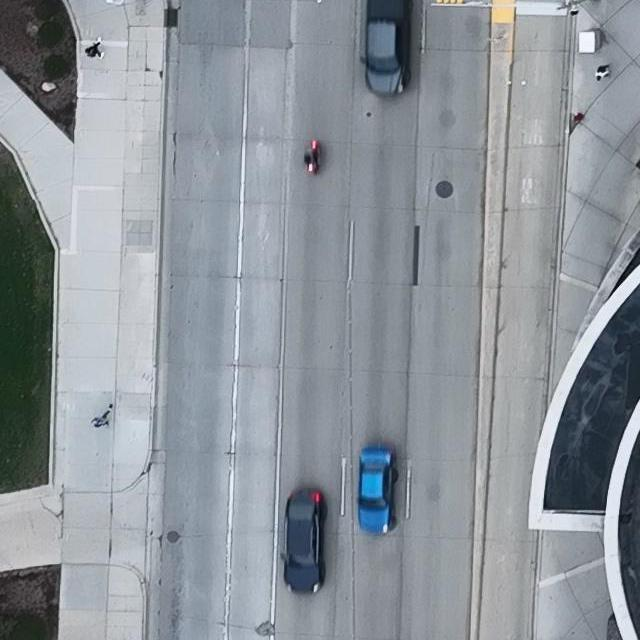car: (359, 0, 412, 100), (279, 489, 326, 596), (358, 444, 399, 536)
